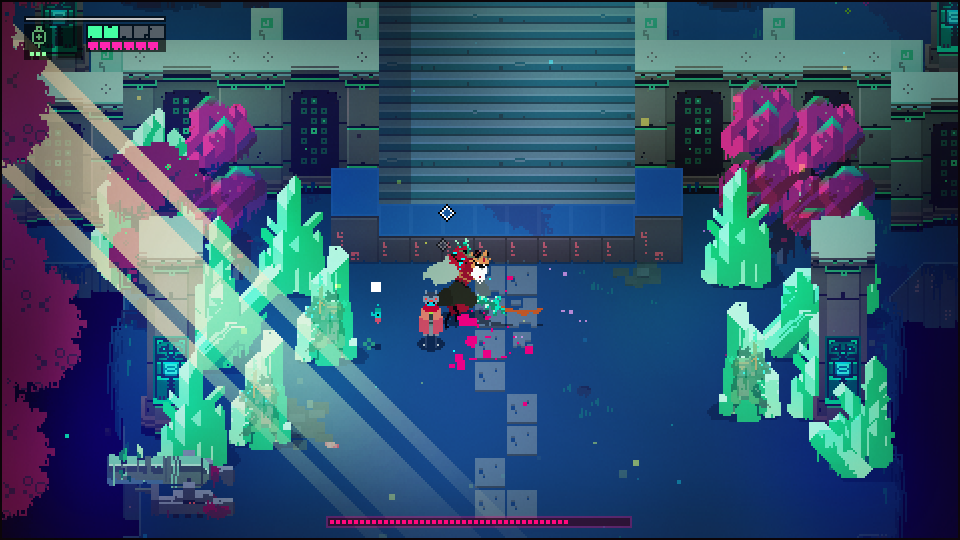hanged_man: (418, 237, 516, 327)
player: (419, 287, 449, 357)
